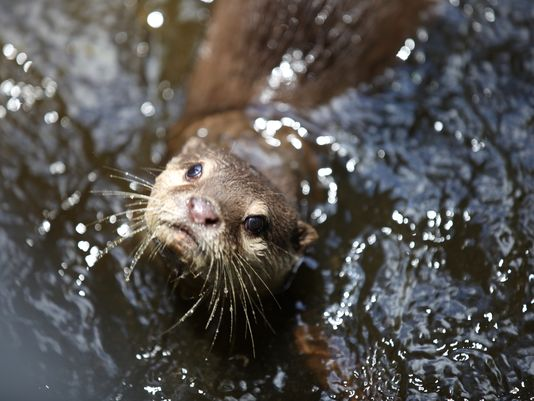otter: (91, 123, 354, 326)
